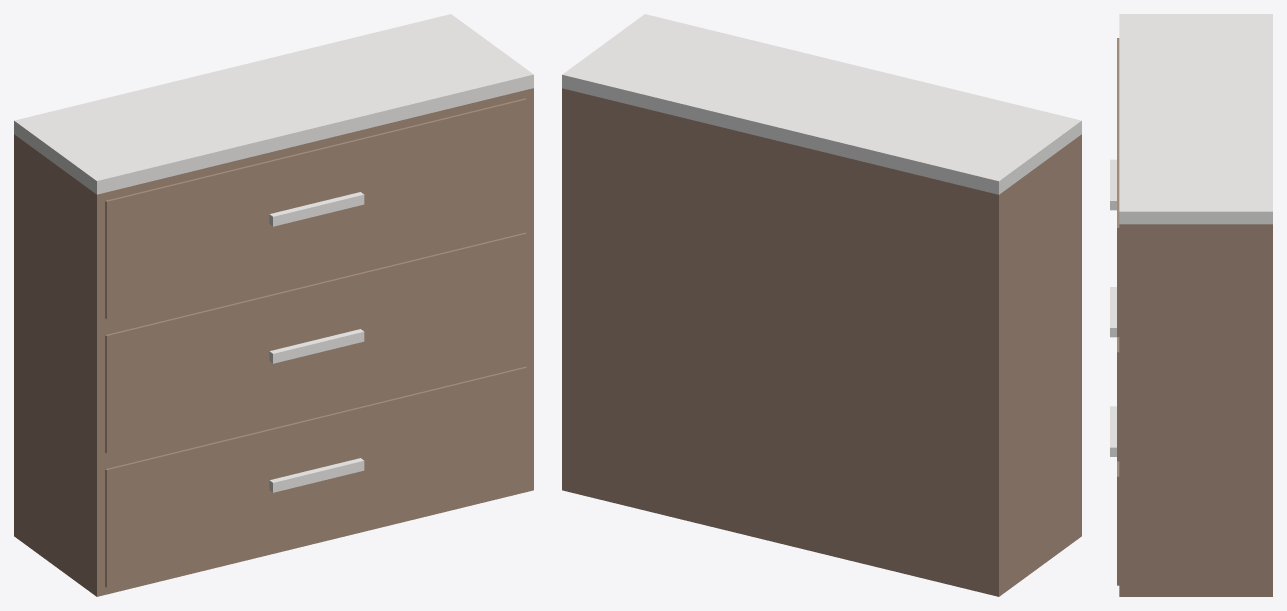
Rendered from Cabinet_4.fbx.
The picture shows the model from 3 angles, left to right: view 1: azimuth 30°, elevation 25°; view 2: azimuth 150°, elevation 25°; view 3: azimuth 270°, elevation 25°; orthographic projection. The views are drawn at different scales.
Parts seen in each view (by area): view 1: Cabinet_4; view 2: Cabinet_4; view 3: Cabinet_4.
Boxes of the visible parts, left/top/right/bottom form: Cabinet_4: left=14, top=14, right=533, bottom=596; Cabinet_4: left=562, top=14, right=1081, bottom=596; Cabinet_4: left=1110, top=14, right=1272, bottom=596.
Size of the model in its own units: 180 by 62.53 by 163.
